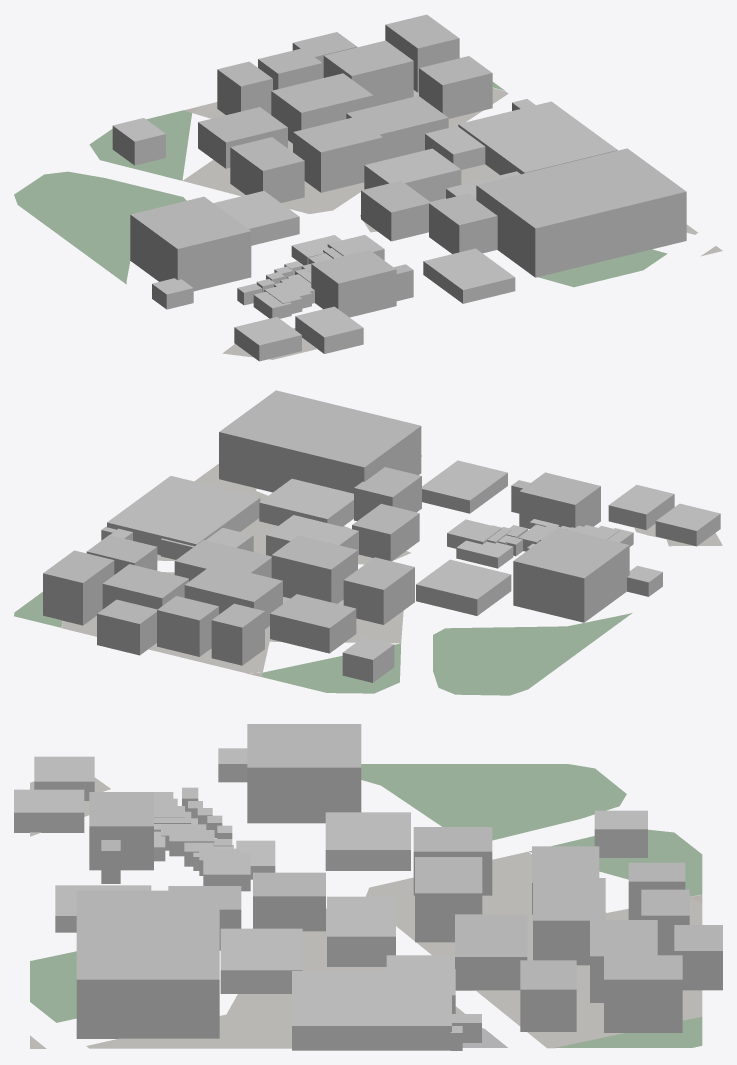
Rendered from 105_106_mid.glb.
3 renders of one model, top to bottom at view 1: azimuth 30°, elevation 25°; view 2: azimuth 150°, elevation 25°; view 3: azimuth 270°, elevation 25°, orthographic. The views are drawn at different scales.
Size of the model in its own units: 505 by 48.8 by 527.
